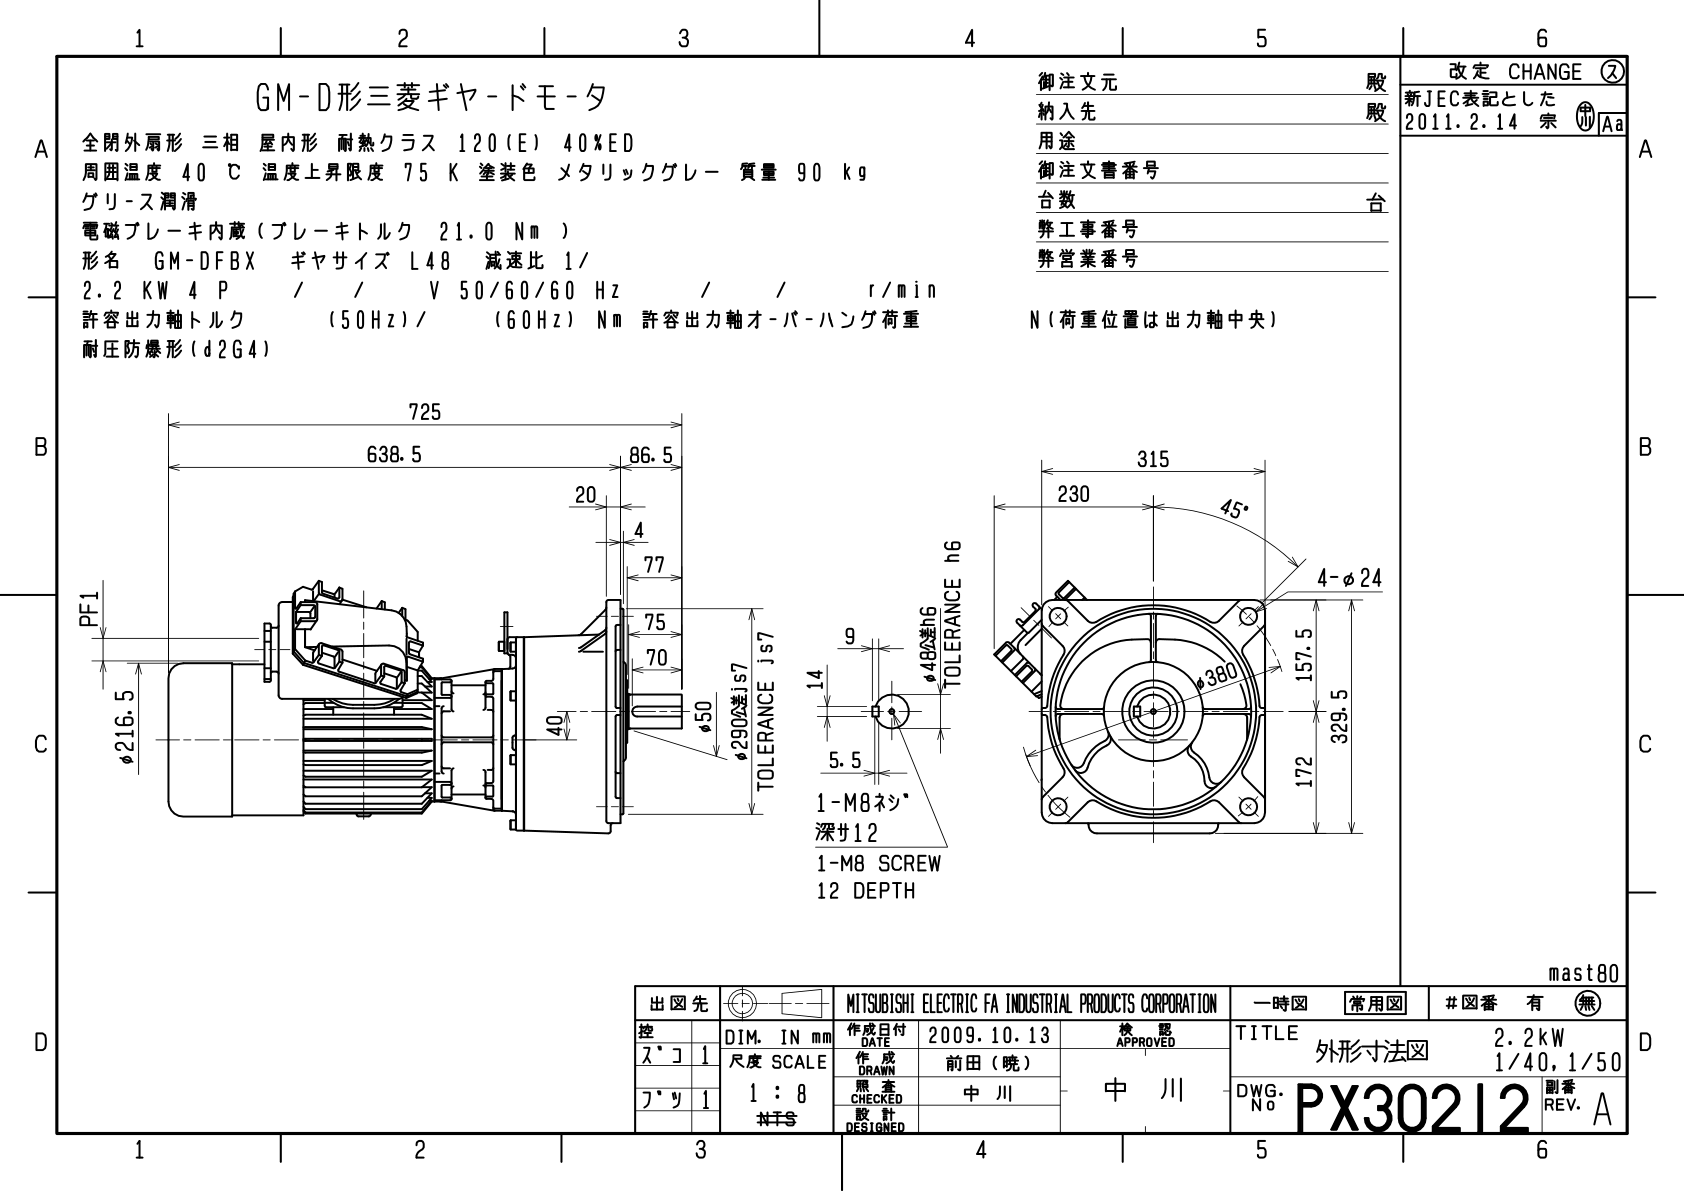GM_SP_屋内＿三相_フランジ: (58, 378, 1393, 916)
